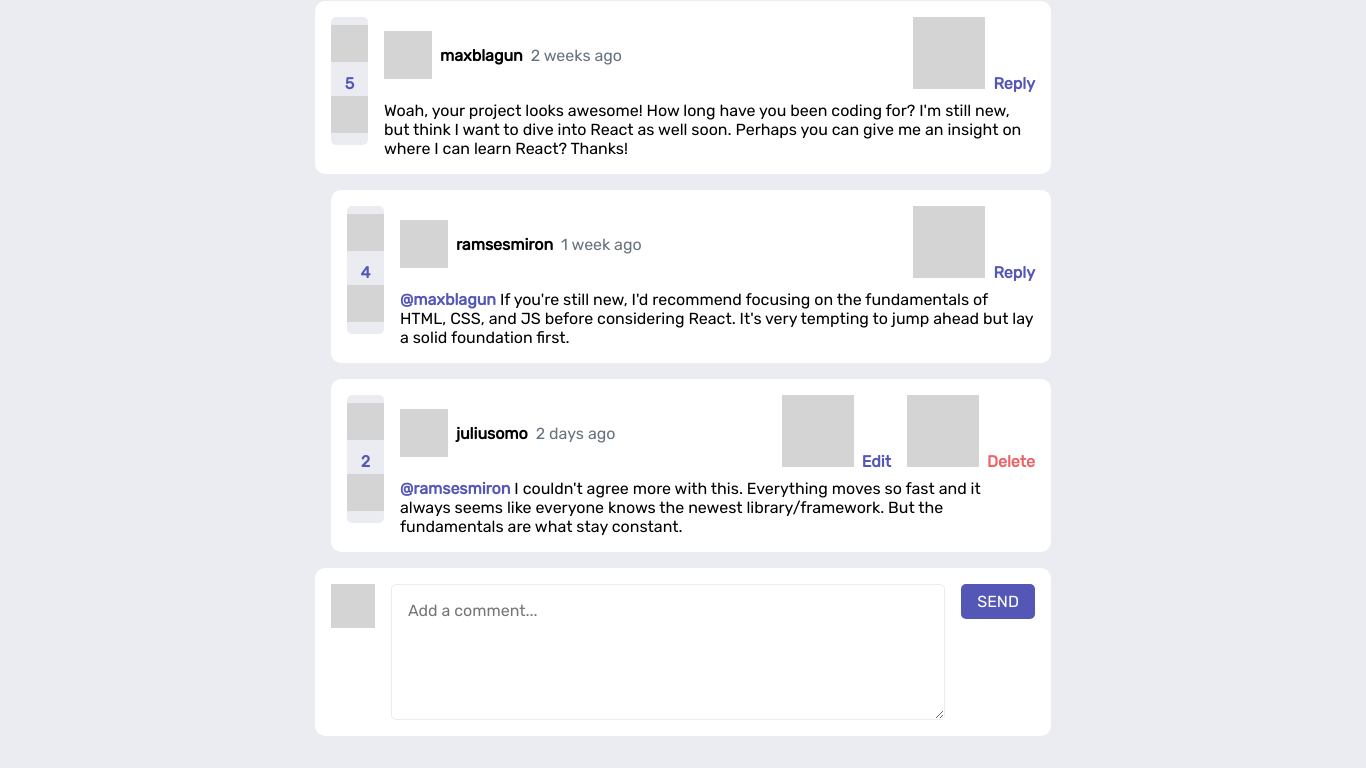
Test: App Integration Tests › Deleting › should cancel deletion and keep comment
The image size is (1366, 768).
(page scrolled)
Click the button "Delete" at point(971, 433), box [907,395,1035,471]
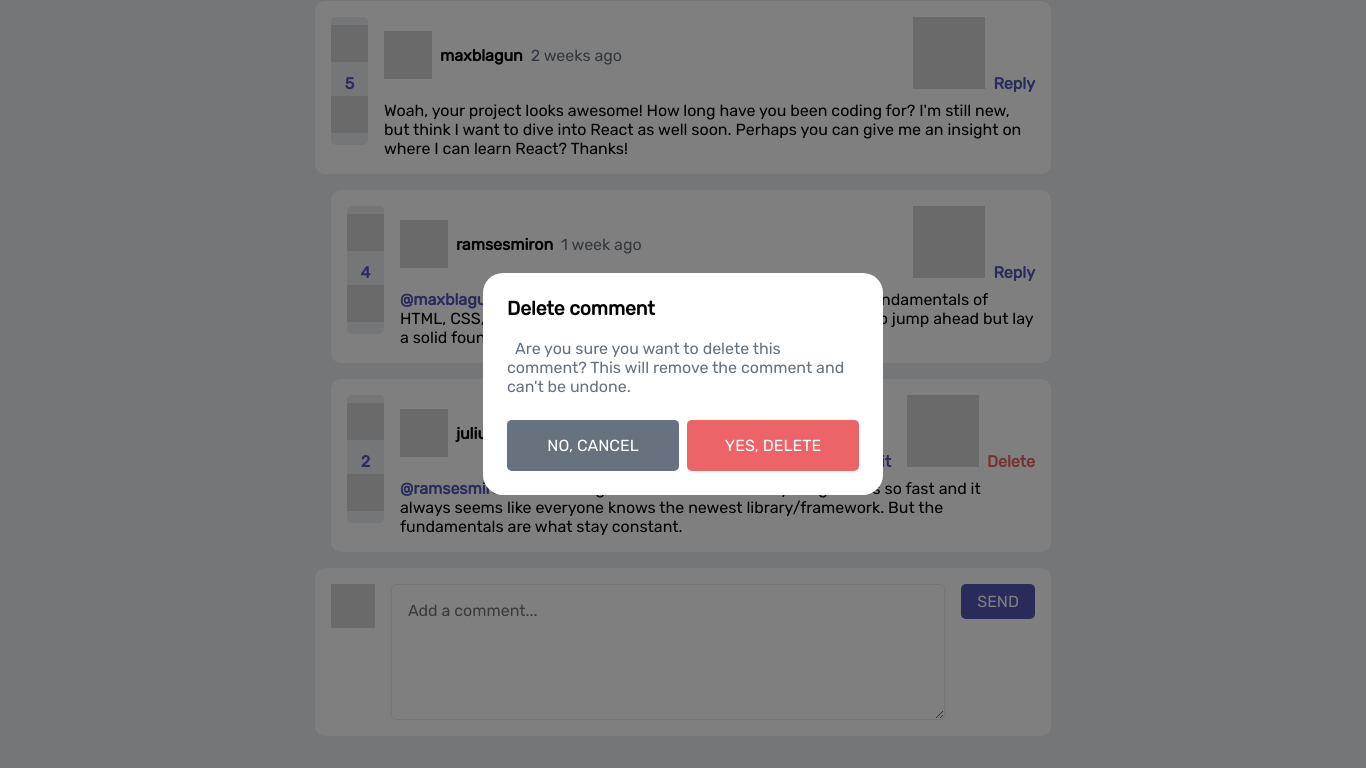
Click the button "No, Cancel" at point(593, 446), box [507,420,679,471]
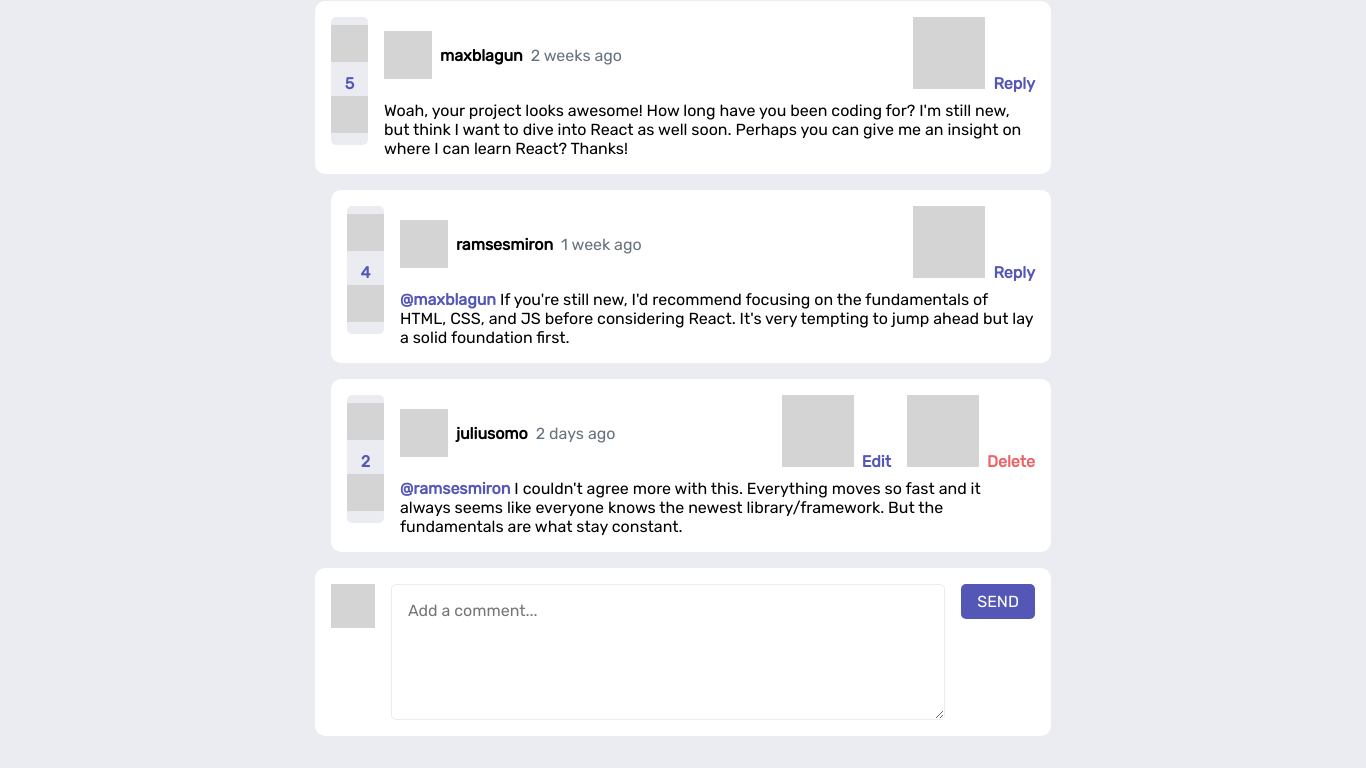
Now the text "Delete comment" is gone
